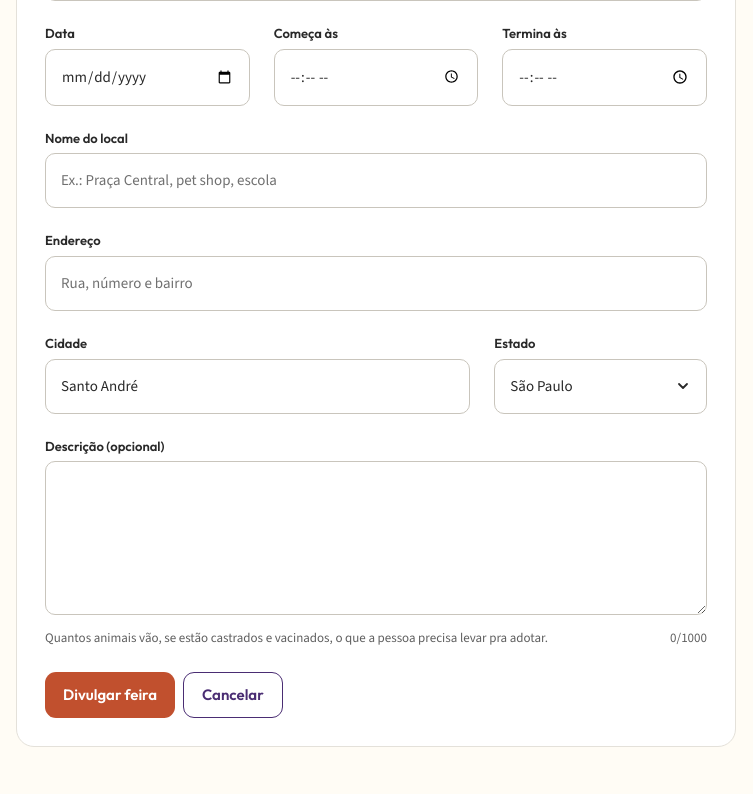
sem os campos obrigatórios, marca cada um e leva o foco pro primeiro
The image size is (753, 794).
(page scrolled)
Expected: the field labelled "Cidade" holds "Santo André", [45, 359, 470, 414]
Click the button "Divulgar feira".
click(110, 695)  # box [45, 672, 175, 718]
(page scrolled)
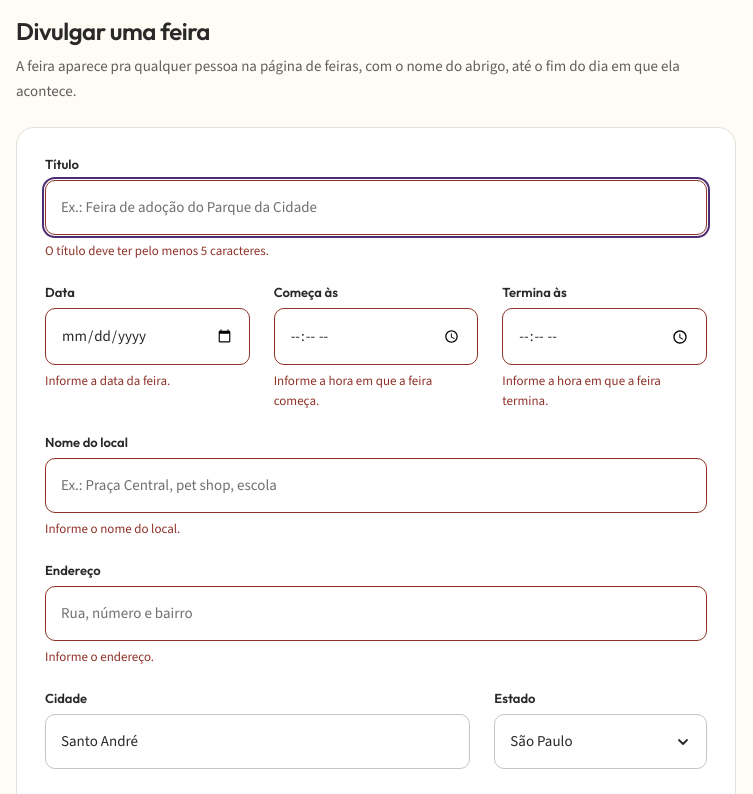
Expected: the text "O título deve ter pelo menos 5 caracteres." is shown, [45, 242, 269, 259]
Expected: the text "Informe a data da feira." is shown, [45, 372, 170, 389]
Expected: the text "Informe a hora em que a feira começa." is shown, [274, 372, 432, 409]
